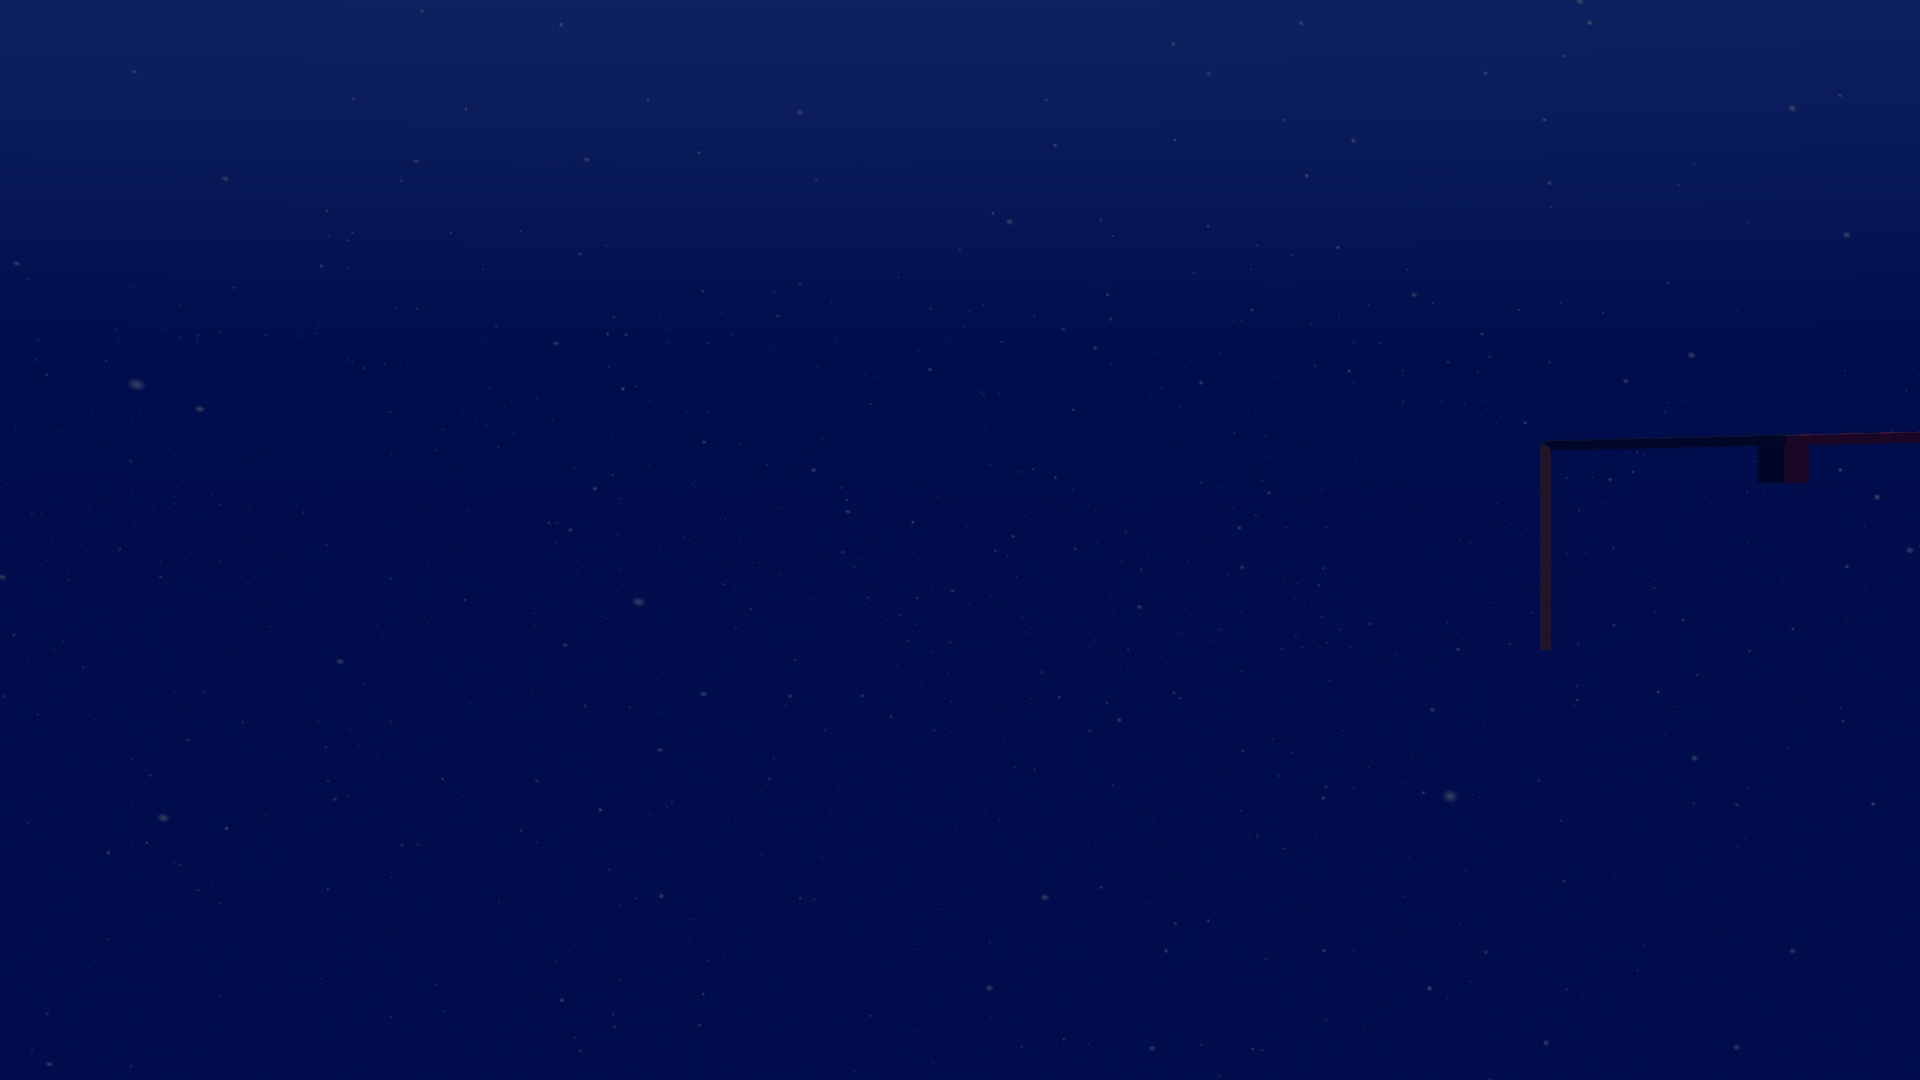Gate: (1534, 427, 1920, 657)
